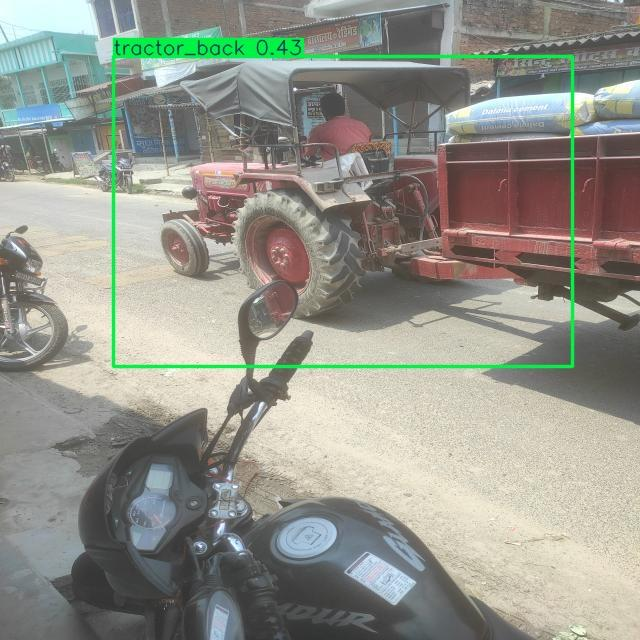tractor_back: (155, 41, 640, 326)
two_wheeler_front: (0, 216, 73, 374), (91, 147, 140, 197)
